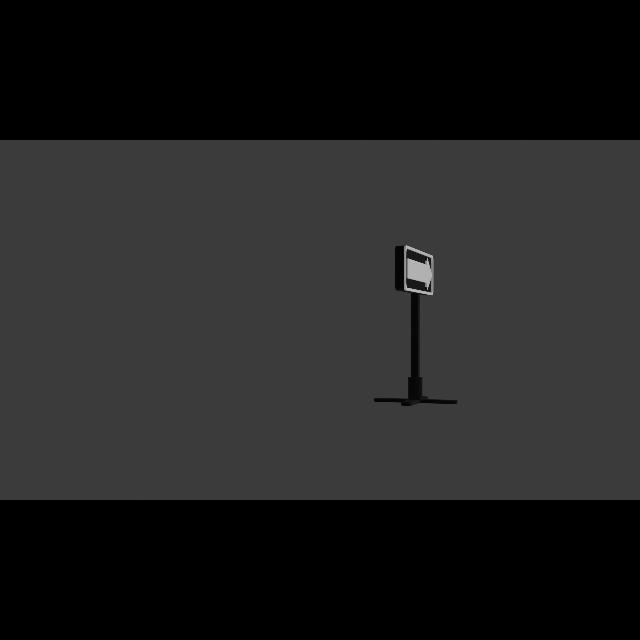sign_oneway_right: (398, 243, 443, 299)
